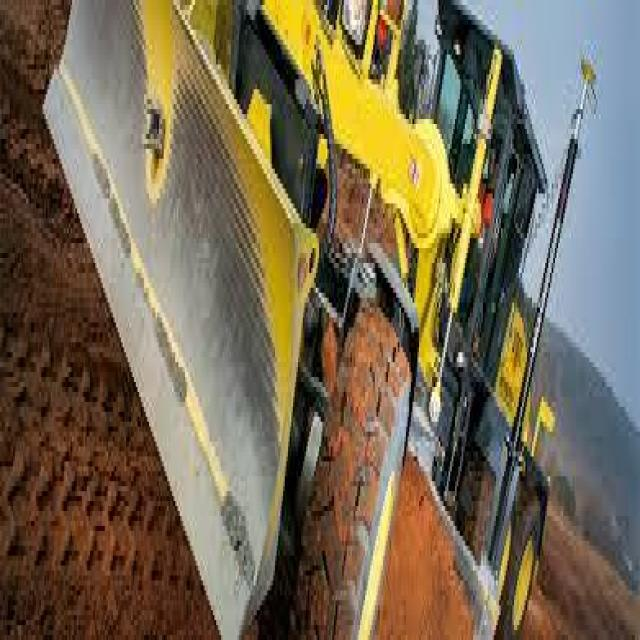Grader: (23, 0, 610, 635)
